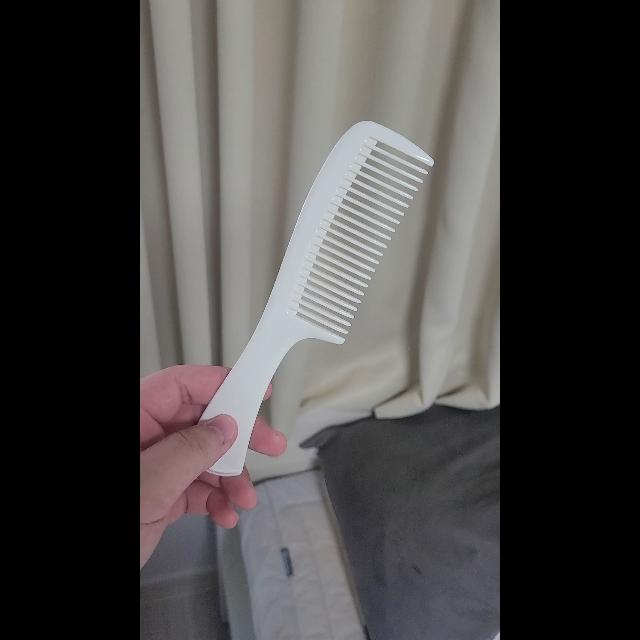COMB: (198, 121, 434, 477)
